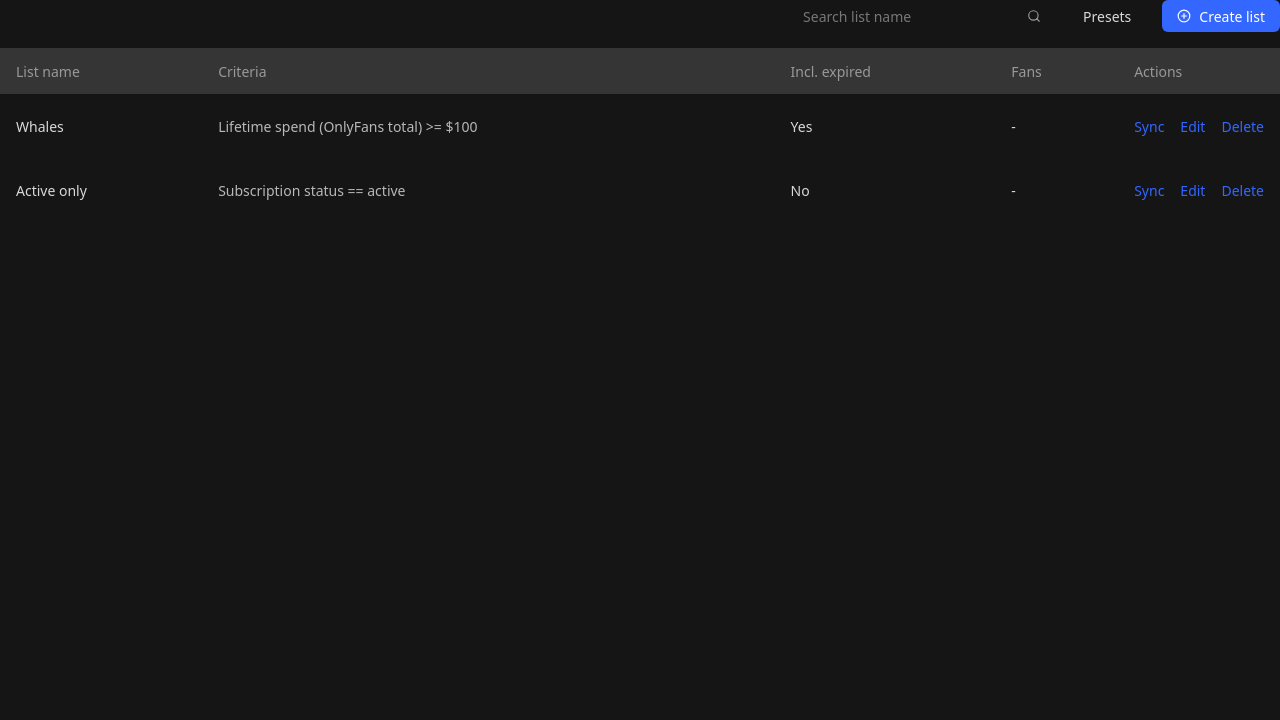
Test case: SmartListsTab › Edit opens Edit smart list with the list's name
Expected: the text "Whales" is shown, [16,116,64,136]
Click the button with aria-label "Edit Whales" at (1193, 126), box [1180,110,1206,142]
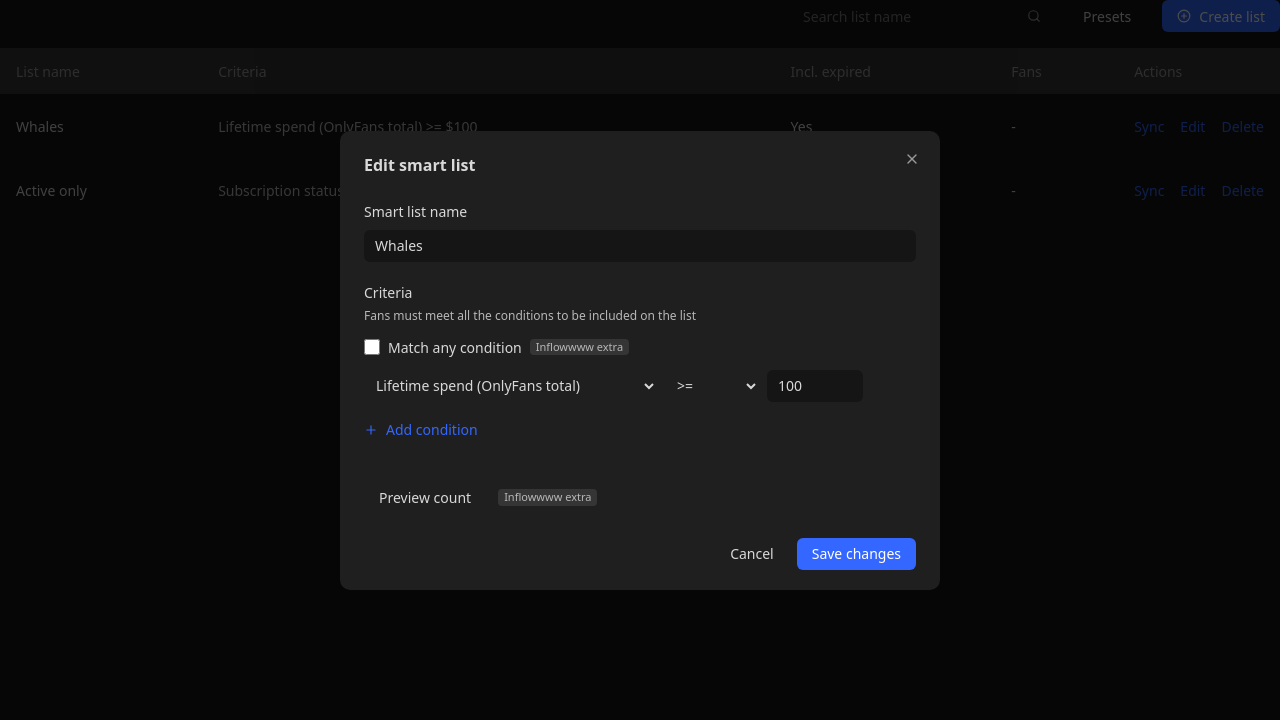
Result: the field labelled "Smart list name" holds "Whales" at [364,230,916,262]
